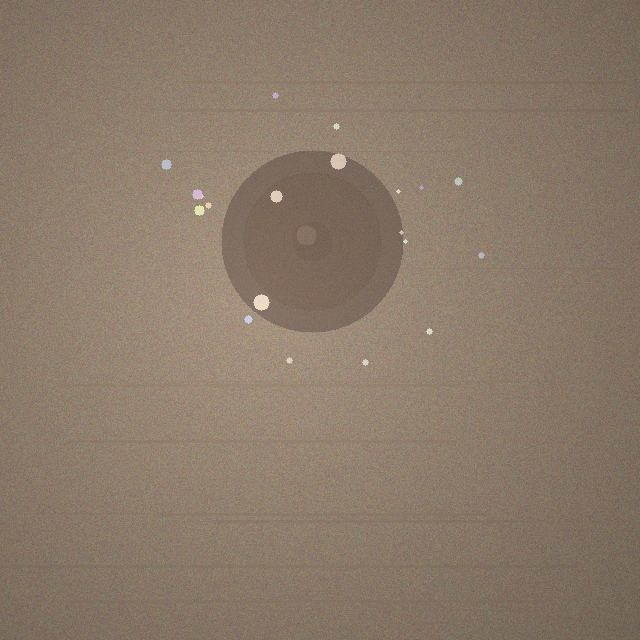overburn: (221, 150, 403, 332)
